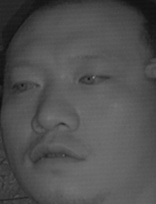eye: (75, 69, 111, 90), (8, 76, 41, 96)
mouth: (30, 138, 88, 171)
